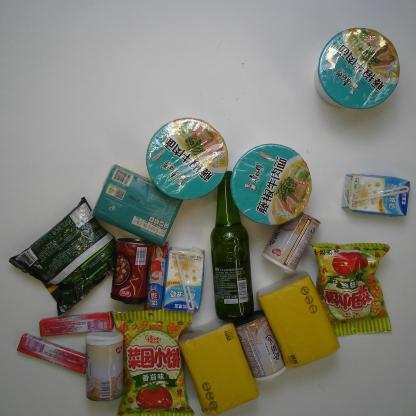Alcohol: (211, 168, 256, 323)
Candy: (16, 332, 87, 374), (39, 308, 115, 338), (145, 241, 168, 312)
Canned Food: (233, 309, 287, 381), (261, 210, 321, 274), (82, 328, 127, 402), (110, 235, 155, 306)
Instant Noodles: (6, 195, 121, 317), (316, 27, 402, 112), (145, 116, 230, 201), (230, 143, 313, 227)
Milk: (339, 171, 411, 219), (162, 242, 206, 314)
Puffed Food: (112, 304, 201, 415), (306, 238, 394, 338)
Tissue: (254, 270, 341, 371), (177, 318, 260, 416), (89, 162, 183, 247)
